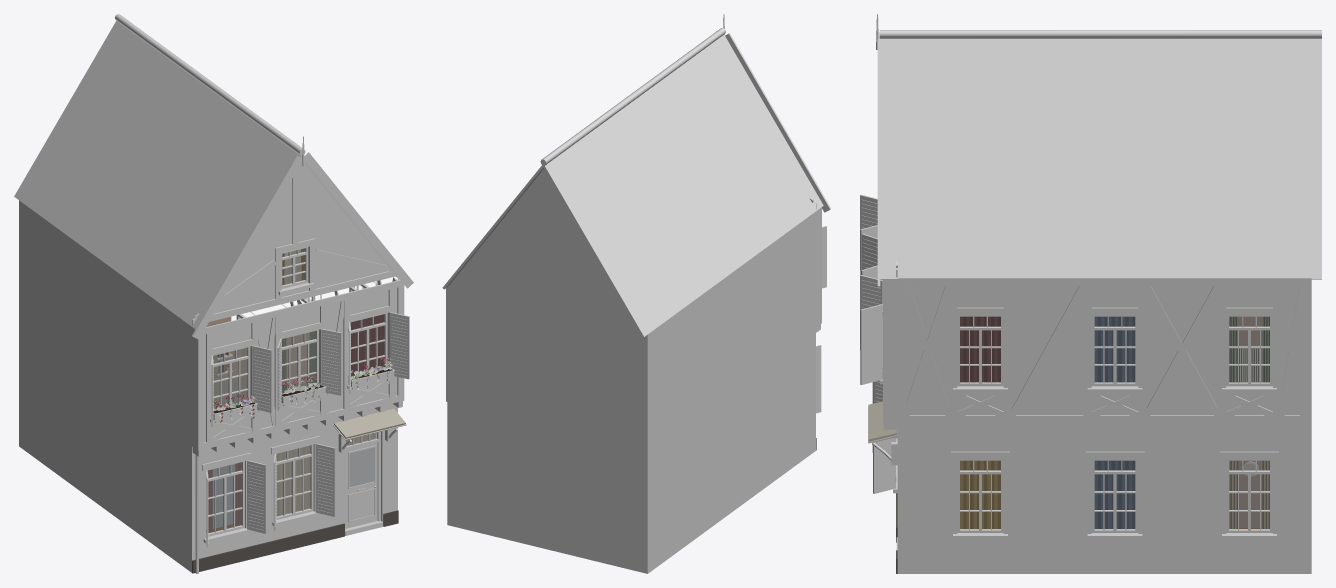
Rendered from GateStreet_BehindOuter3.glb.
3 renders of one model, left to right at view 1: azimuth 30°, elevation 25°; view 2: azimuth 150°, elevation 25°; view 3: azimuth 270°, elevation 25°, orthographic. The views are drawn at different scales.
Visible parts, largest first — view 1: GateStreet_BehindOuter3; view 2: GateStreet_BehindOuter3; view 3: GateStreet_BehindOuter3.
Boxes of the visible parts, <box> form: GateStreet_BehindOuter3: <box>14,14,413,573</box>; GateStreet_BehindOuter3: <box>442,14,831,573</box>; GateStreet_BehindOuter3: <box>860,14,1321,573</box>.
Bounding box in the file's own units: 5.91 × 10.65 × 8.93.
